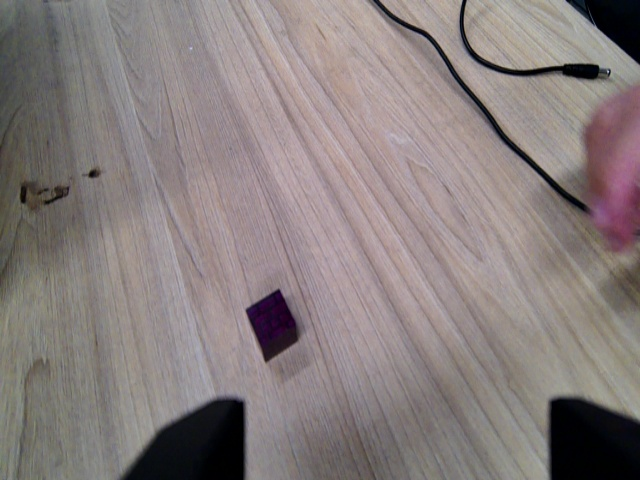brick: (244, 288, 299, 364)
